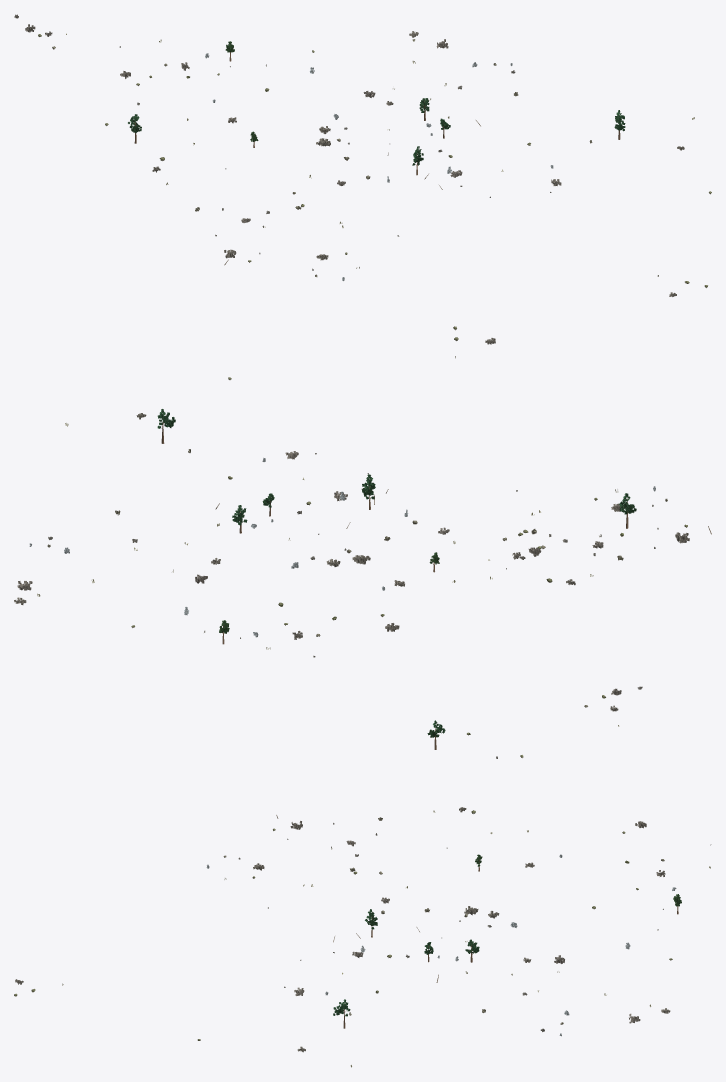
Rendered from coast_land_scatter_c10_22.glb.
3 views of the same model, one above another, from view 1: azimuth 30°, elevation 25°; view 2: azimuth 150°, elevation 25°; view 3: azimuth 270°, elevation 25° (orthographic). The views are drawn at different scales.
Parts seen in each view (by area): view 1: coast_land_scatter_c10_22; view 2: coast_land_scatter_c10_22; view 3: coast_land_scatter_c10_22.
Boxes of the visible parts, x1,y1,x2,y2 form: coast_land_scatter_c10_22: (14, 14, 711, 296); coast_land_scatter_c10_22: (14, 326, 711, 657); coast_land_scatter_c10_22: (14, 686, 711, 1067).
Bounding box in the file's own units: 222 × 53.35 × 254.
